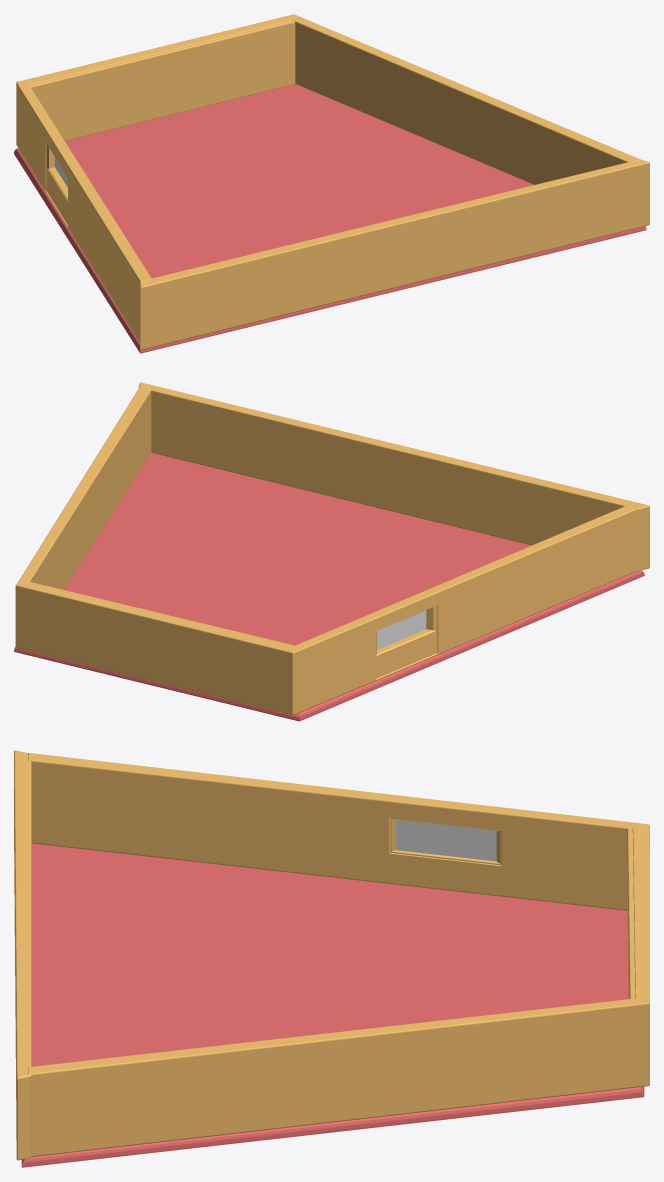
The picture shows the model from 3 angles, top to bottom: view 1: azimuth 30°, elevation 25°; view 2: azimuth 150°, elevation 25°; view 3: azimuth 270°, elevation 25°; orthographic projection. The views are drawn at different scales.
Visible parts, largest first — view 1: Floor, Lower Wall, Right Wall, Upper Wall, Left Wall, Upper Wall.001; view 2: Floor, Lower Wall, Left Wall, Upper Wall.001, Right Wall, Window, Upper Wall; view 3: Floor, Right Wall, Left Wall, Lower Wall, Upper Wall.001, Window, Upper Wall.
Part boxes in pixels (<box>): Floor: <box>14,84,646,353</box>; Lower Wall: <box>139,159,649,349</box>; Right Wall: <box>292,17,640,184</box>; Upper Wall: <box>29,20,295,140</box>; Left Wall: <box>18,85,151,342</box>; Upper Wall.001: <box>16,14,300,147</box>; Floor: <box>14,452,644,721</box>; Lower Wall: <box>138,382,649,570</box>; Left Wall: <box>293,505,638,712</box>; Upper Wall.001: <box>15,581,302,715</box>; Right Wall: <box>19,386,151,589</box>; Window: <box>377,610,426,649</box>; Upper Wall: <box>29,582,294,646</box>; Floor: <box>21,843,644,1167</box>; Right Wall: <box>28,998,636,1156</box>; Left Wall: <box>28,753,633,910</box>; Lower Wall: <box>14,750,31,1160</box>; Upper Wall.001: <box>632,822,649,1087</box>; Window: <box>395,819,496,861</box>; Upper Wall: <box>627,828,635,998</box>.
Size of what is drawn, in the model's own units: 2533 by 330 by 2074.
